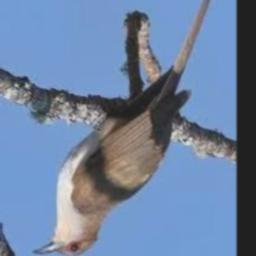Cuckoo: (32, 0, 215, 256)
